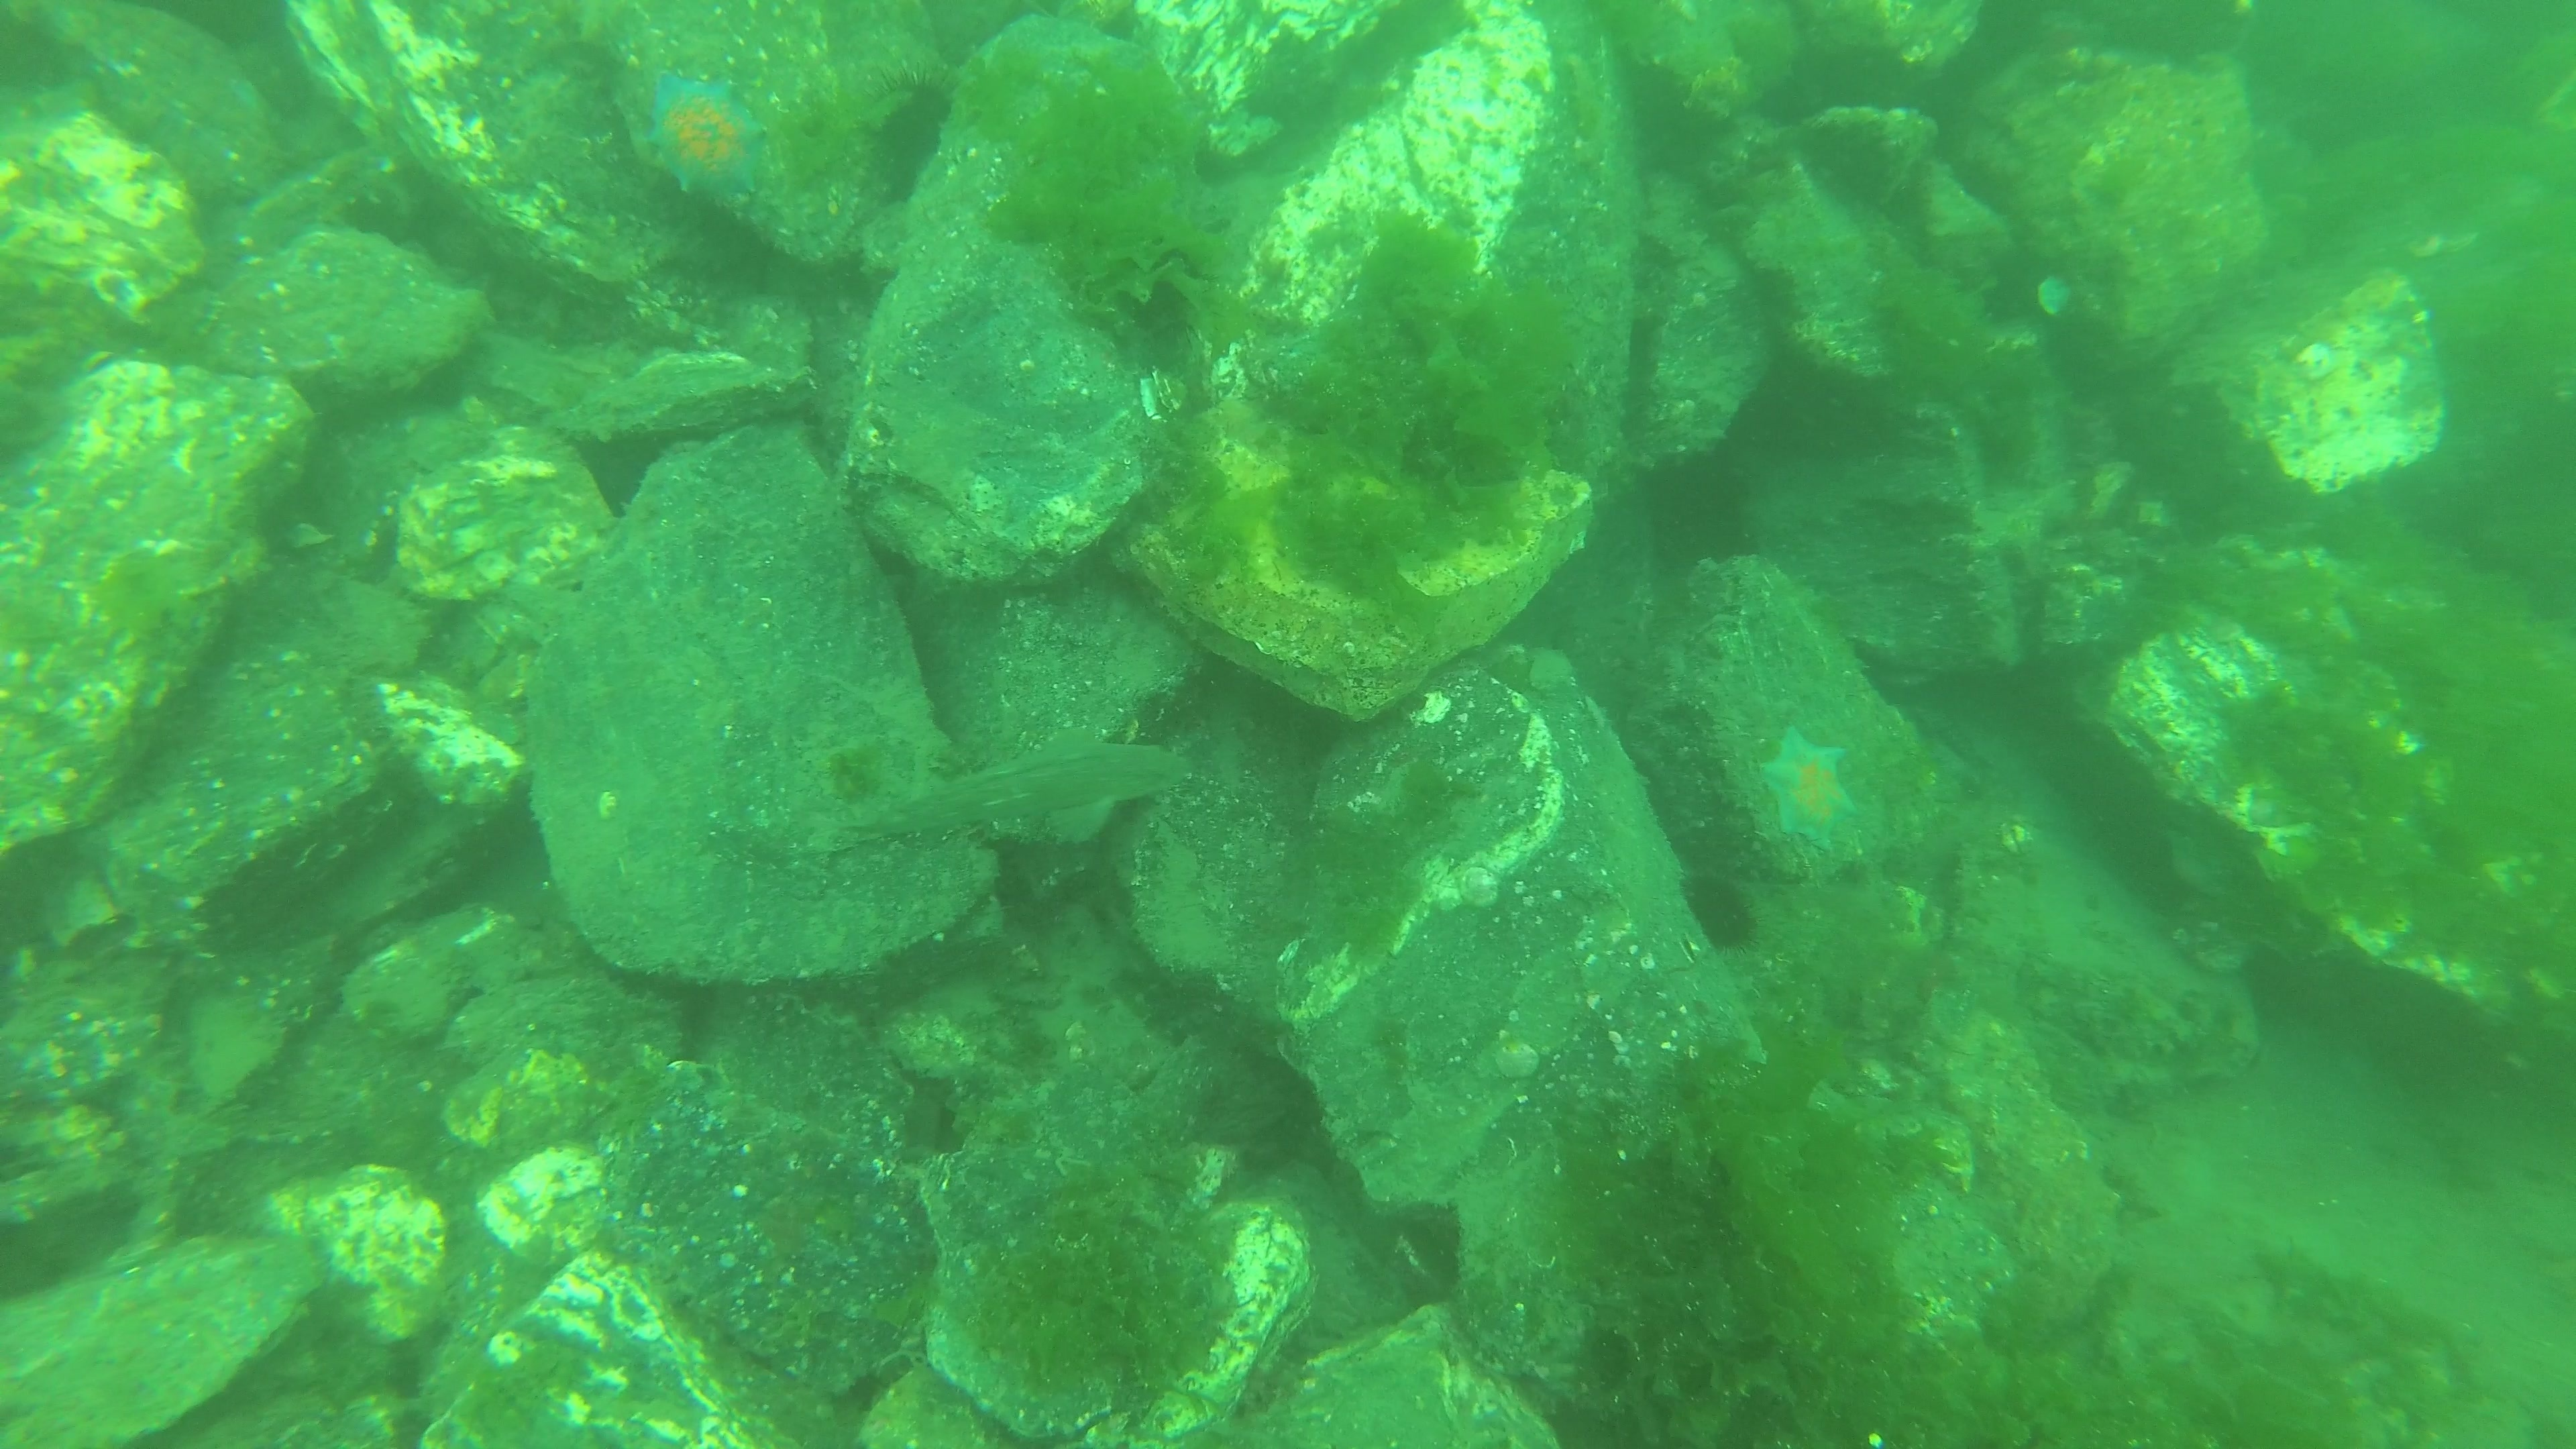echinus: (849, 64, 970, 203), (1674, 867, 1773, 957)
starfish: (633, 67, 778, 205), (1752, 718, 1867, 856)
